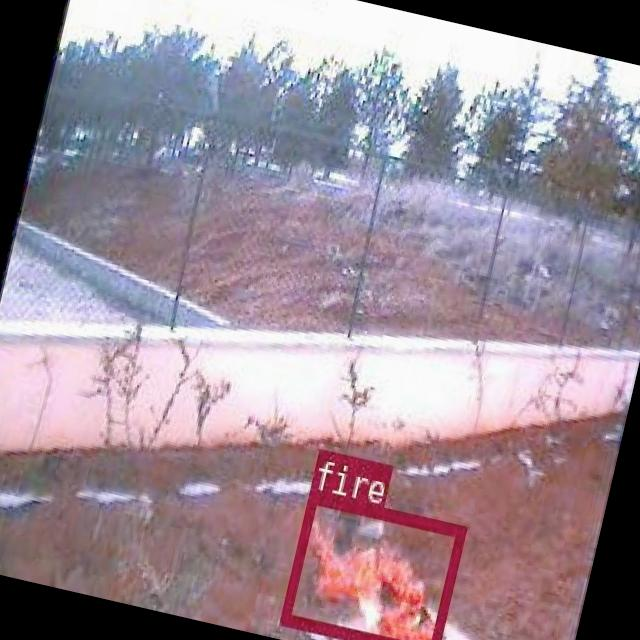fire: (277, 488, 464, 640)
